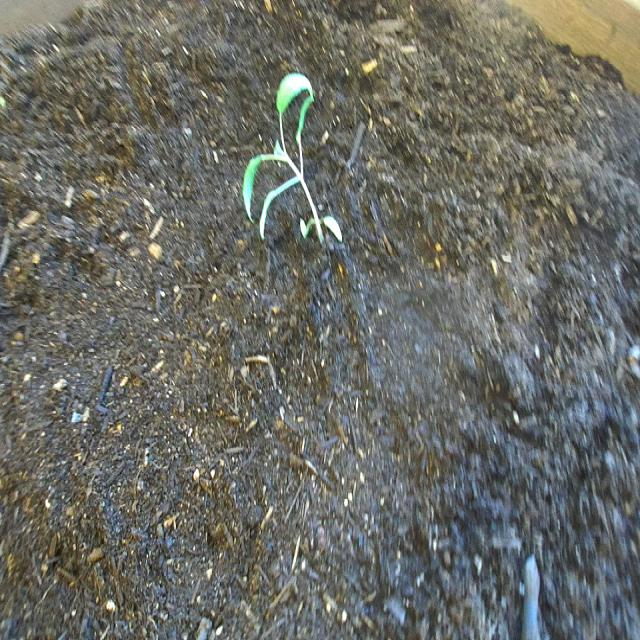Healthy: (236, 67, 347, 256)
